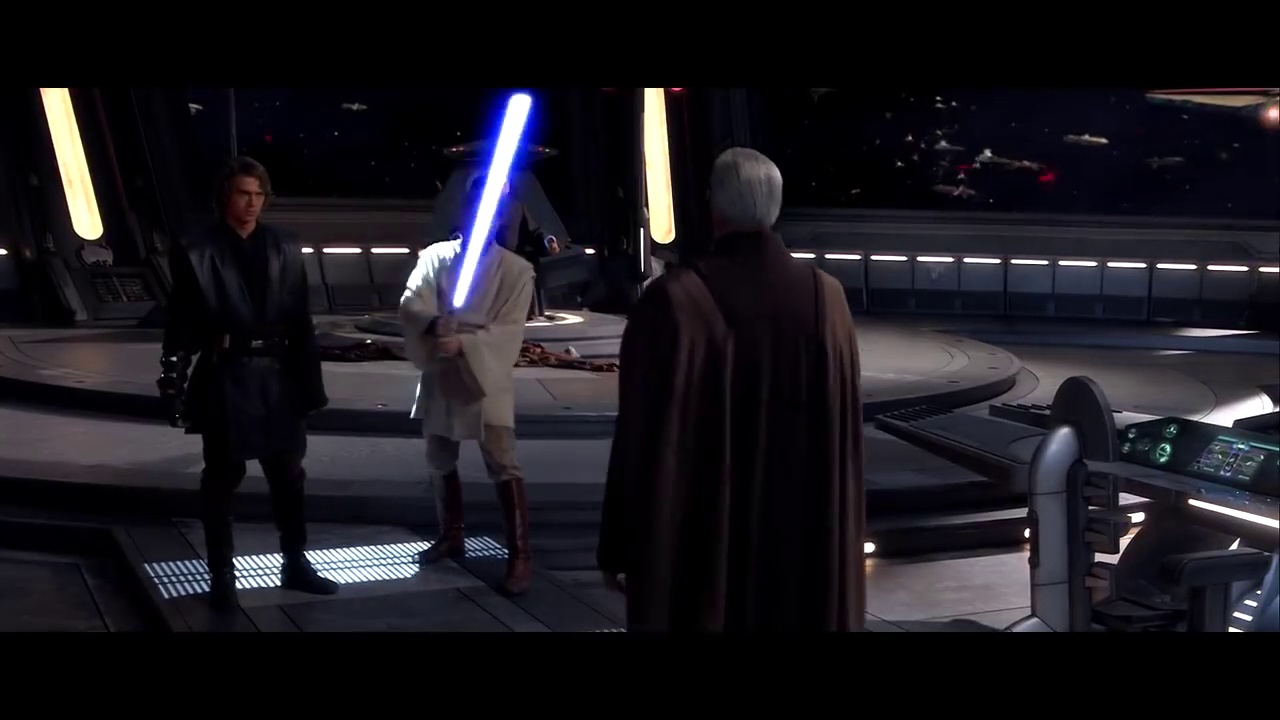lightsaber: (440, 85, 535, 359)
